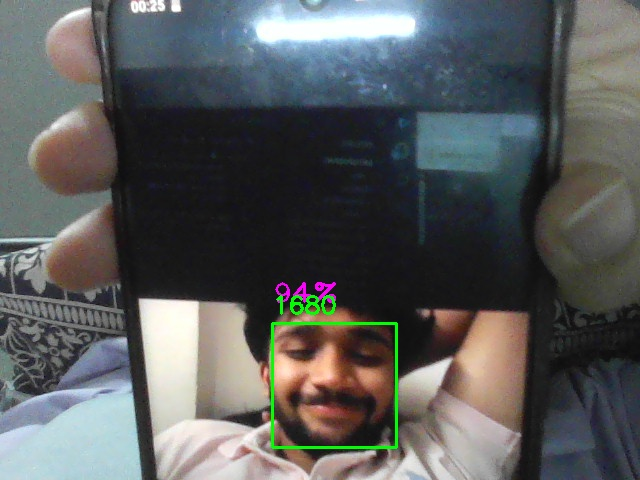fake: (272, 323, 397, 448)
